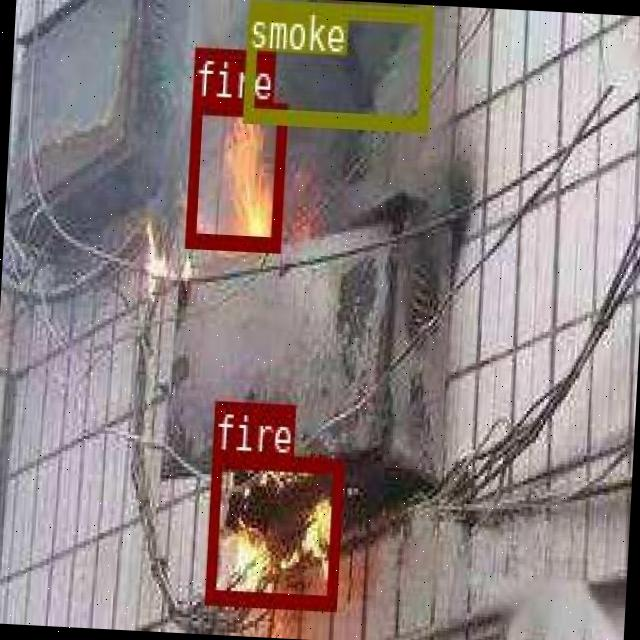fire: (203, 450, 341, 610), (184, 96, 286, 249)
smoke: (241, 0, 432, 129)
